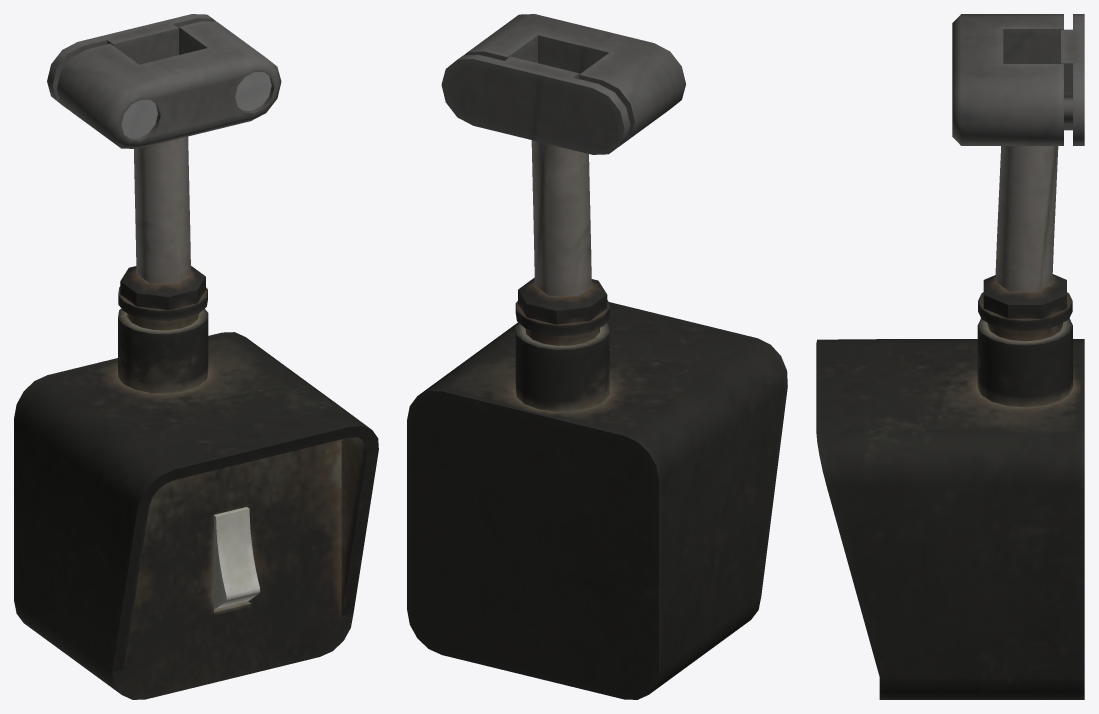
The model's file is cable_lightswitch_2.glb.
3 renders of one model, left to right at view 1: azimuth 30°, elevation 25°; view 2: azimuth 150°, elevation 25°; view 3: azimuth 270°, elevation 25°, orthographic. The views are drawn at different scales.
Parts seen in each view (by area): view 1: cable_lightswitch_2.001; view 2: cable_lightswitch_2.001; view 3: cable_lightswitch_2.001.
Boxes of the visible parts, left/top/right/bottom form: cable_lightswitch_2.001: left=14, top=14, right=378, bottom=699; cable_lightswitch_2.001: left=407, top=14, right=787, bottom=699; cable_lightswitch_2.001: left=816, top=14, right=1084, bottom=699.
Bounding box in the file's own units: 0.0572 × 0.1311 × 0.0527.
1 material, 1 textured.
